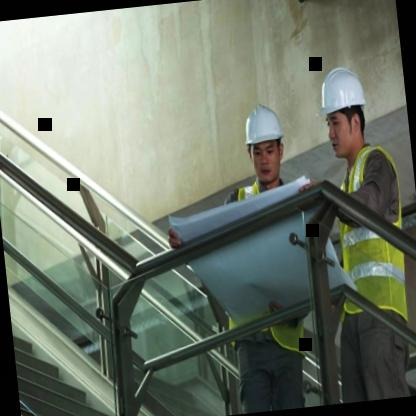helmet: (309, 53, 376, 172), (235, 95, 294, 193)
